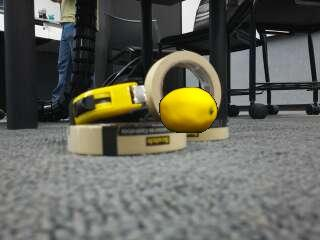lemon: (160, 88, 217, 133)
